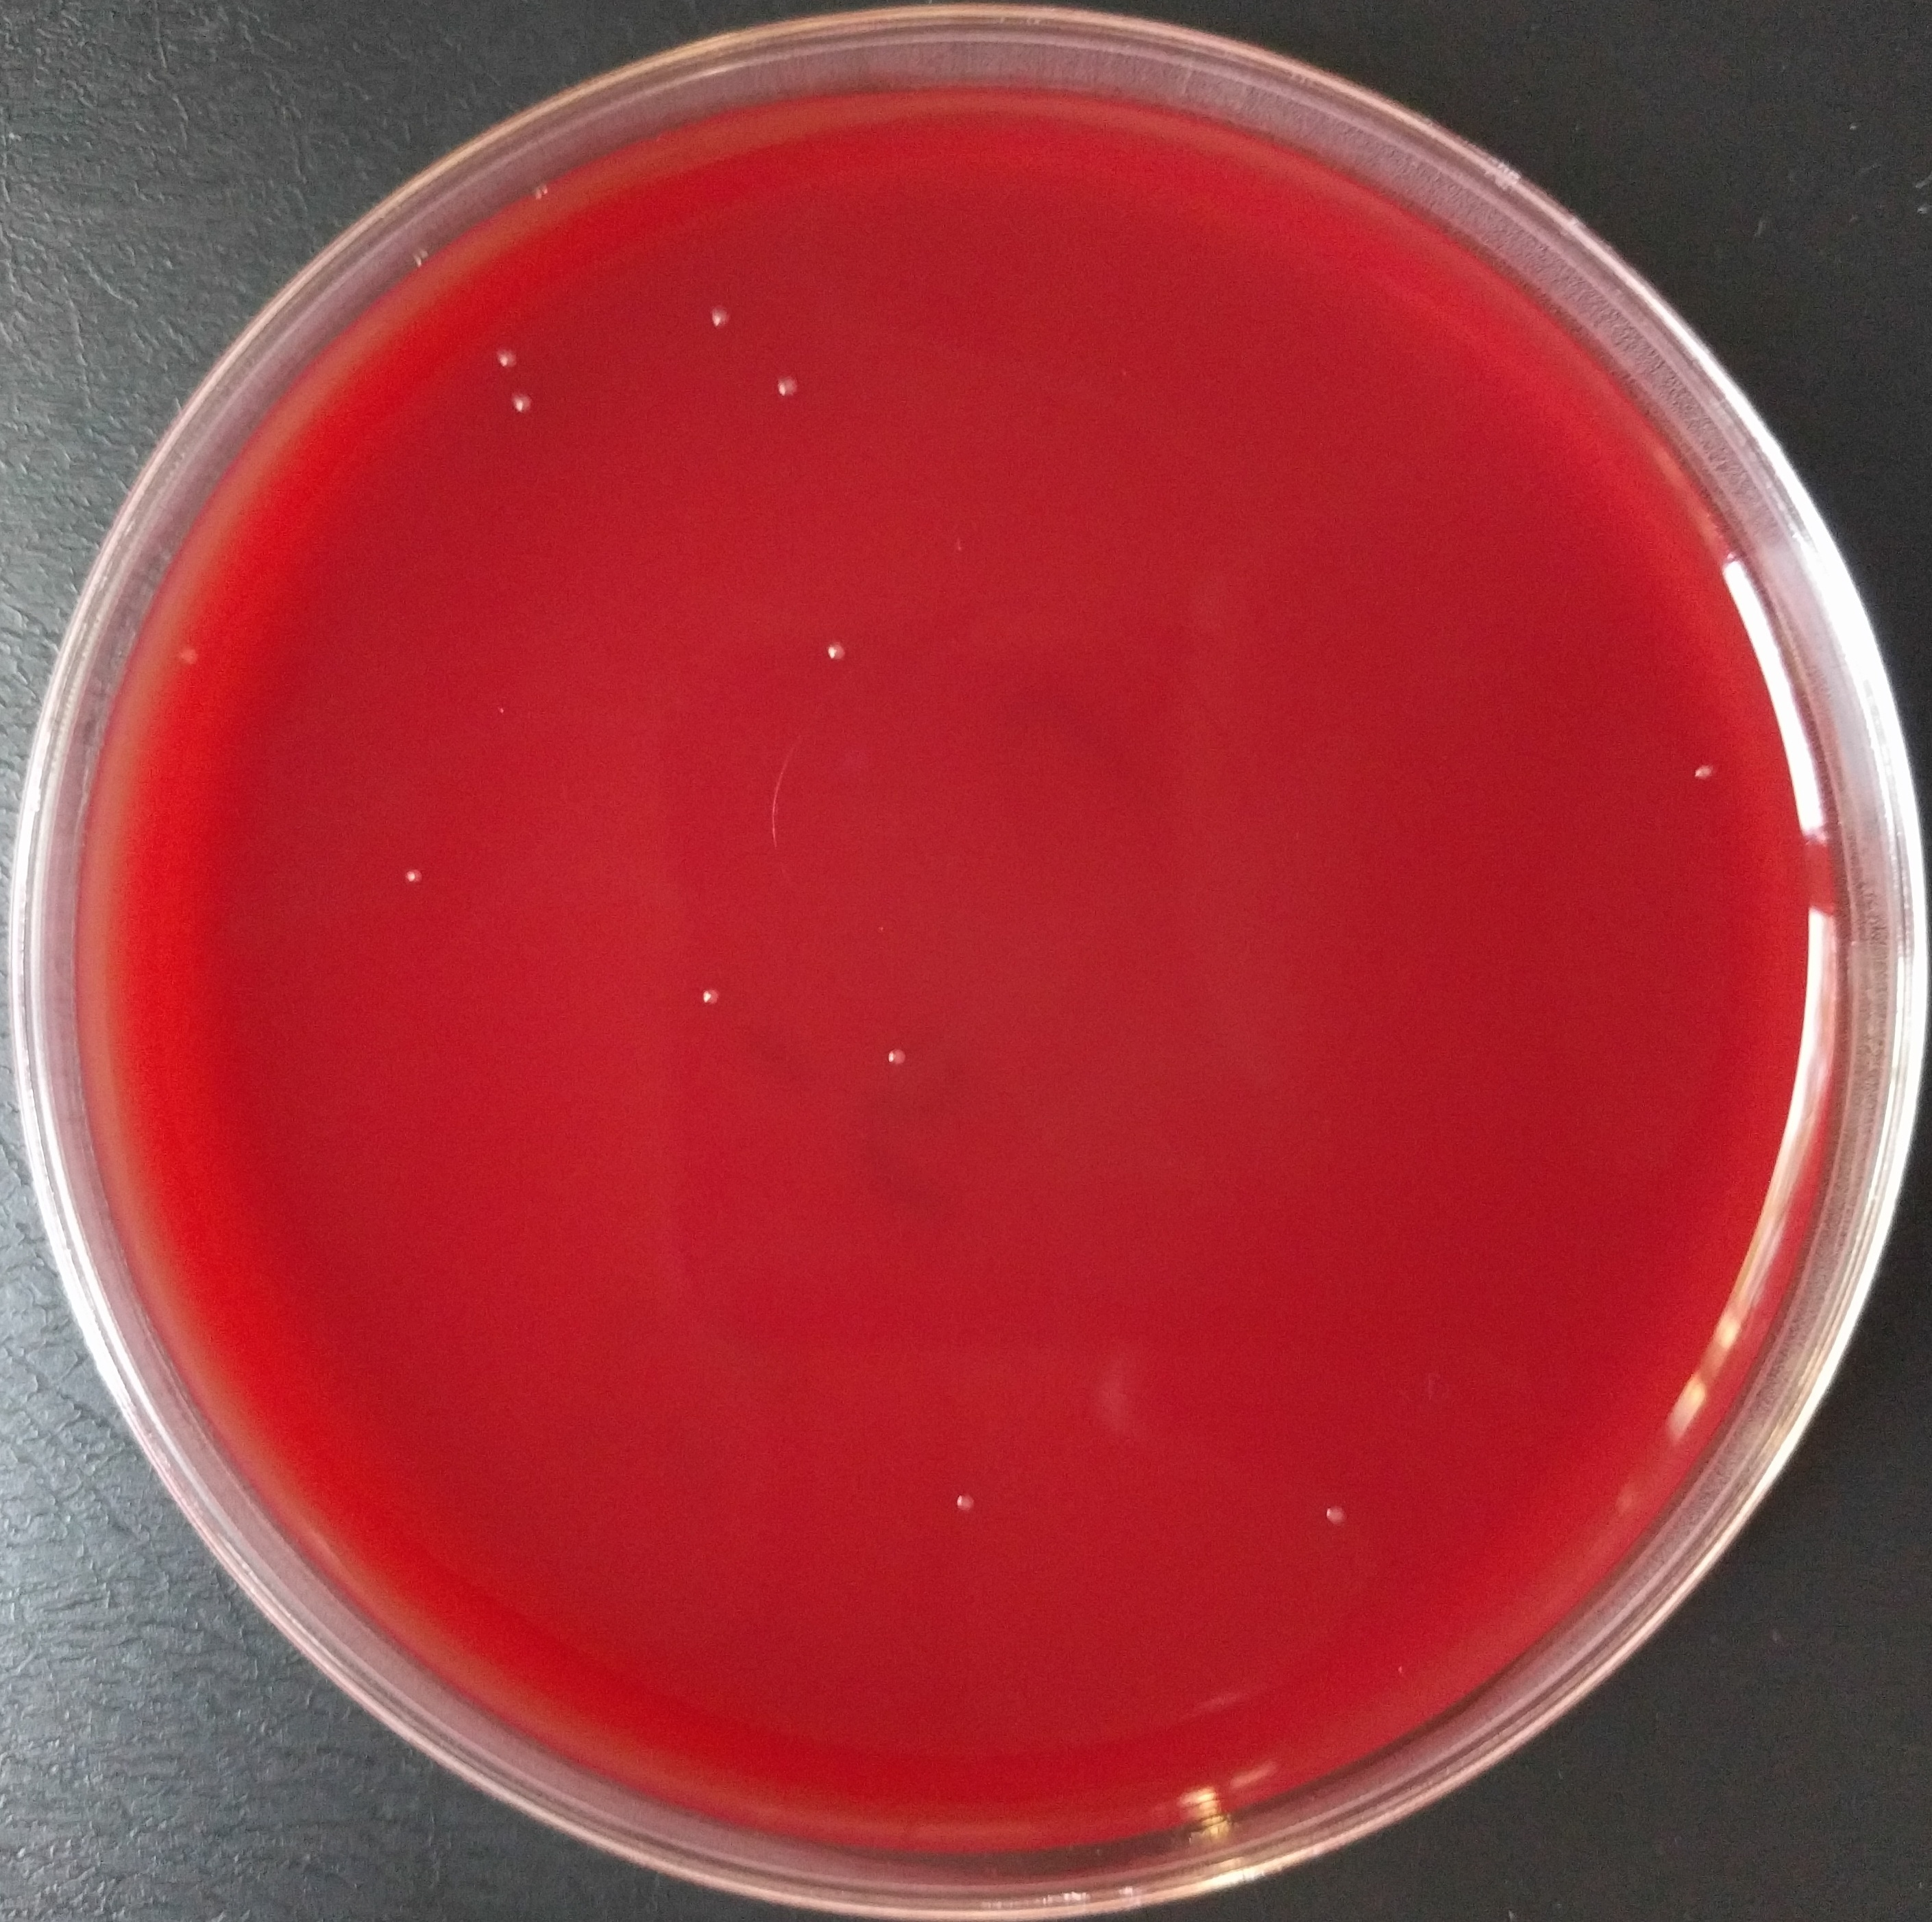sp07: (864, 1021, 940, 1095), (1670, 746, 1753, 796), (684, 970, 753, 1026), (391, 859, 463, 912), (1318, 1486, 1367, 1558), (475, 338, 554, 375), (813, 611, 862, 667), (757, 357, 804, 410), (929, 1482, 1008, 1514), (699, 290, 744, 334), (167, 634, 206, 679), (501, 391, 544, 419)
